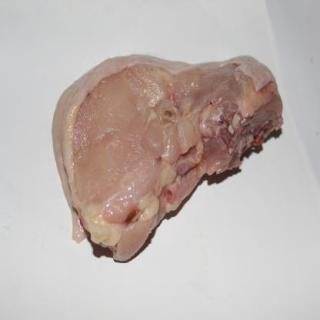Ayam: (54, 57, 285, 264)
